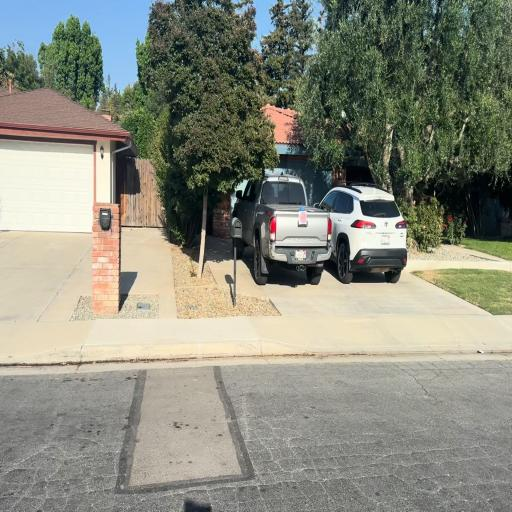bullseye: (299, 211, 307, 225)
